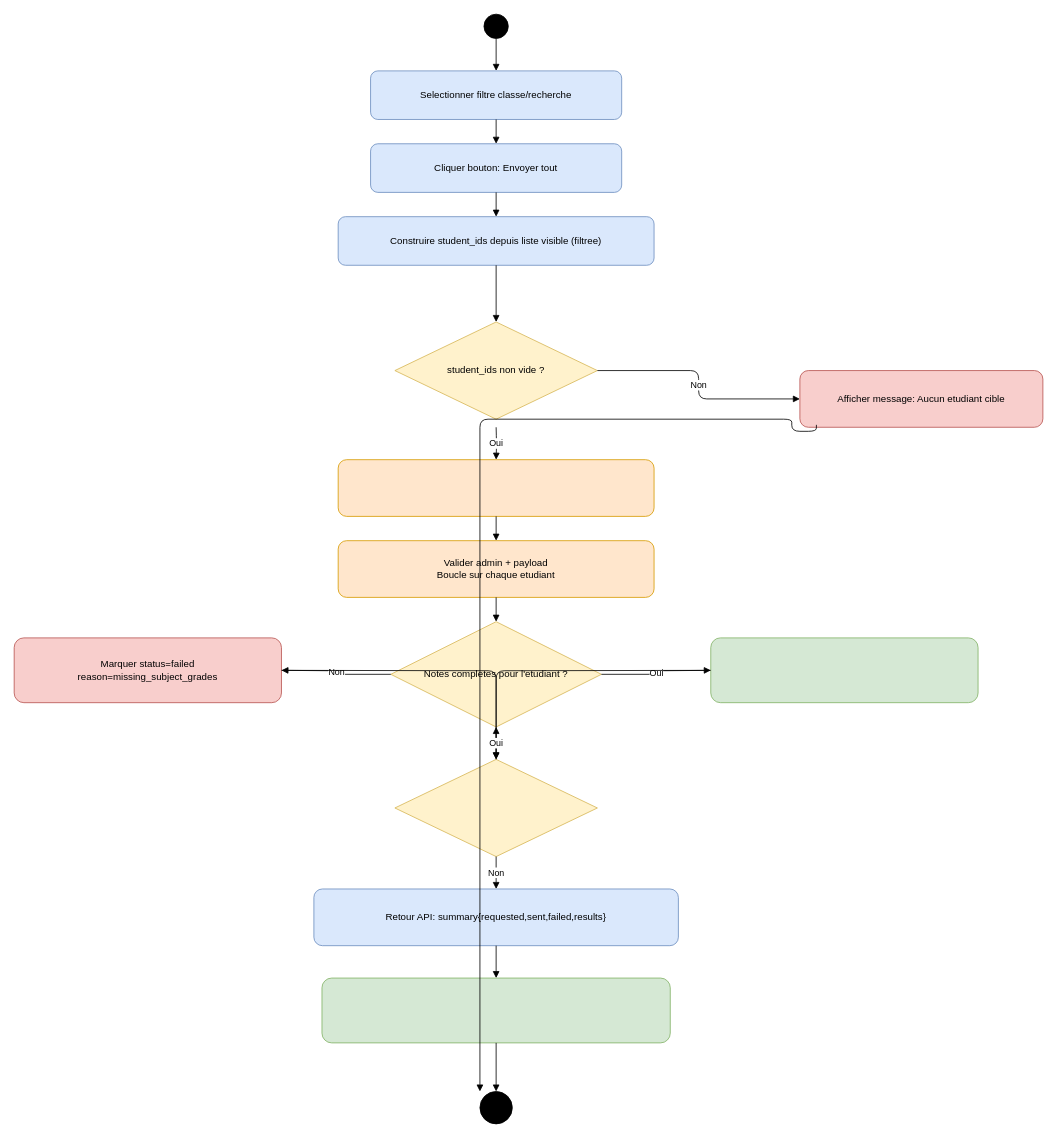
Image size: 1057x1138. Some labels were removed from this diagram. Here are the shapes that lost their labels. From the top down, the centre of each, then its label:
the point at 495,487: Desactiver bouton + etat loading POST /api/admin/send-grades/bulk/
the point at 844,670: Generer PDF + appeler webhook n8n Marquer status=sent
the point at 495,808: Etudiant suivant ?
the point at 495,1010: Retirer loading + reactiver bouton Afficher toast de confirmation
